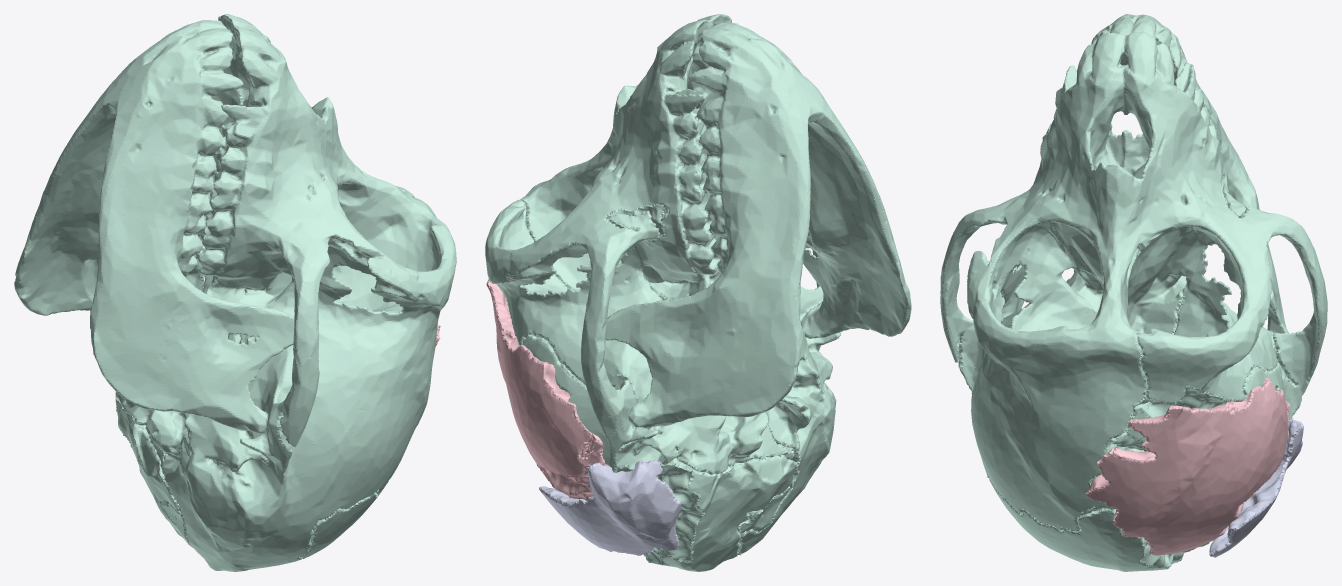
File: 102021_colored.glb
3 renders of one model, left to right at view 1: azimuth 30°, elevation 25°; view 2: azimuth 150°, elevation 25°; view 3: azimuth 270°, elevation 25°, orthographic. The views are drawn at different scales.
Visible parts, largest first — view 1: world; view 2: world; view 3: world.
Part boxes in pixels (x1,y1,x2,y2): world: (14, 14, 456, 571); world: (485, 14, 911, 571); world: (940, 14, 1327, 571).
Size of the model in its own units: 0.7339 by 1.01 by 0.6853.
